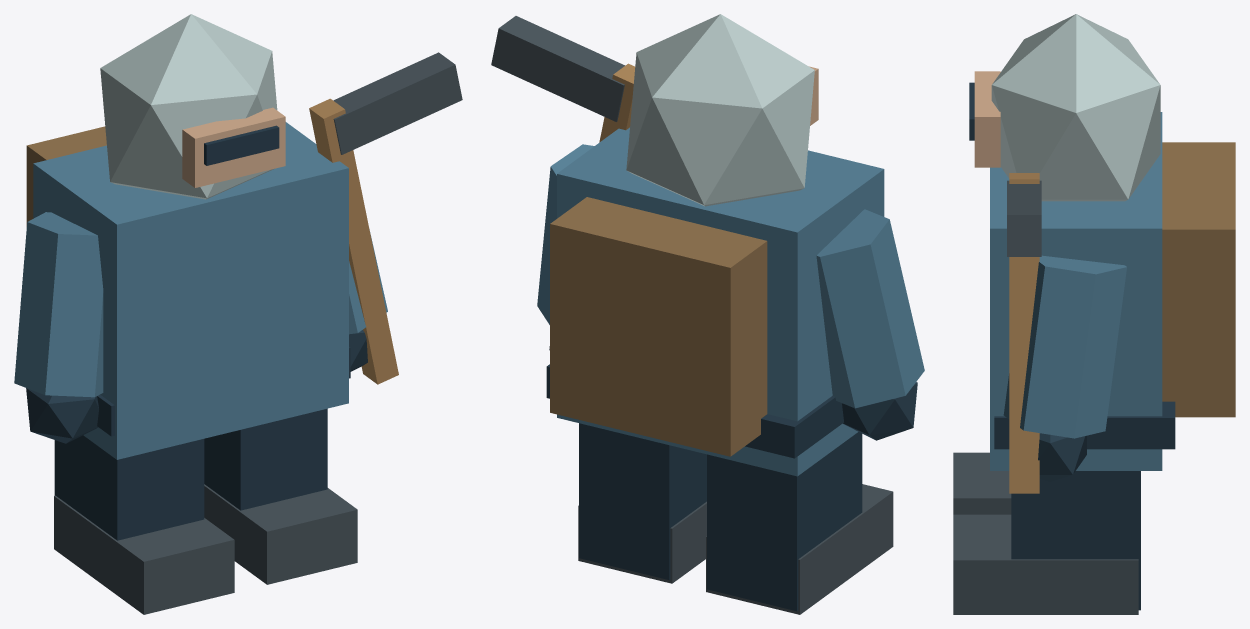
File: worker.glb
3 renders of one model, left to right at view 1: azimuth 30°, elevation 25°; view 2: azimuth 150°, elevation 25°; view 3: azimuth 270°, elevation 25°, orthographic. The views are drawn at different scales.
Visible parts, largest first — view 1: worker; view 2: worker; view 3: worker.
Part boxes in pixels (x1,y1,x2,y2): worker: (14, 14, 462, 614); worker: (491, 14, 924, 614); worker: (953, 14, 1235, 614).
Bounding box in the file's own units: 1.15 × 1.4 × 0.655.
Materials: 1 (1 with a texture image).
